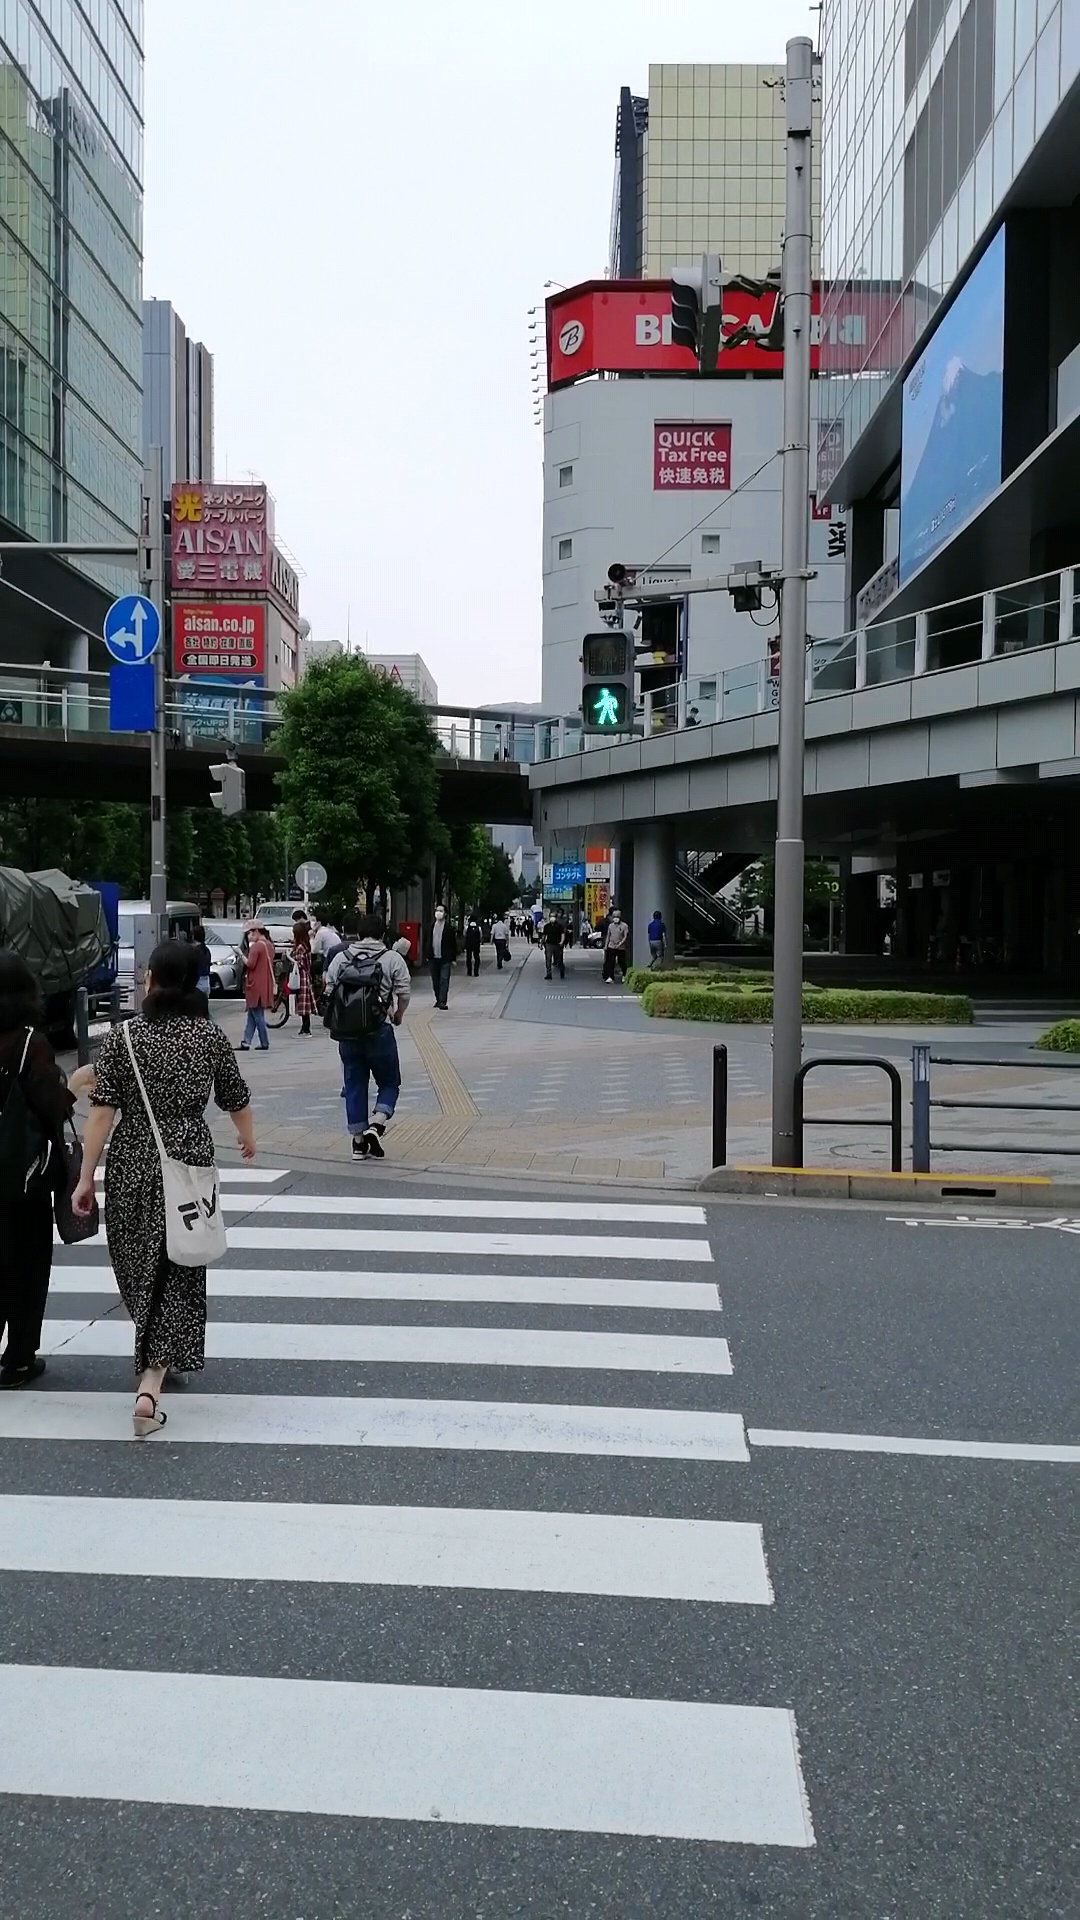green: (579, 629, 636, 733)
